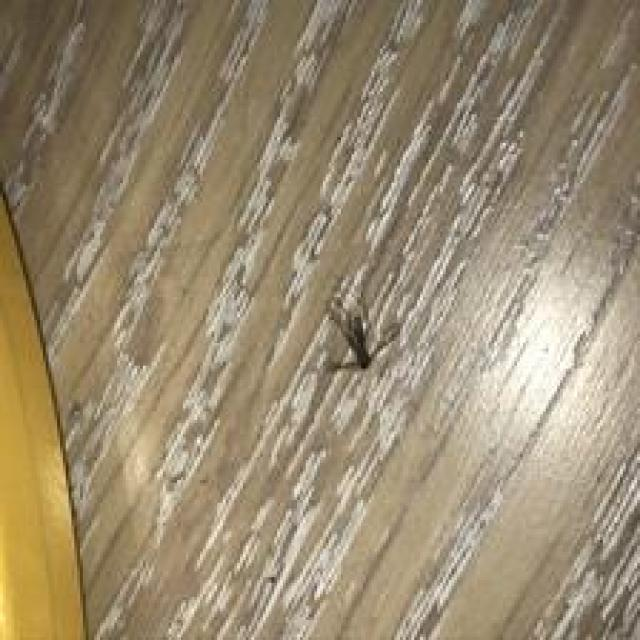Culex: (323, 290, 403, 373)
